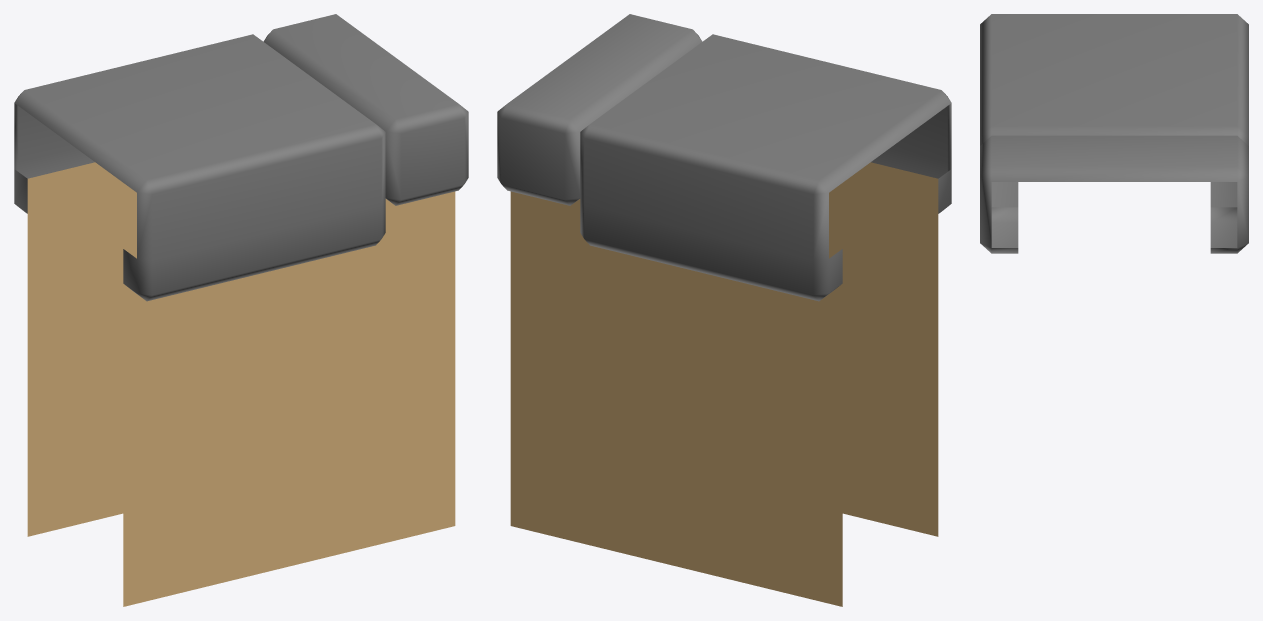
Rendered from SM_WallA_2x2_LOD0.fbx.
3 renders of one model, left to right at view 1: azimuth 30°, elevation 25°; view 2: azimuth 150°, elevation 25°; view 3: azimuth 270°, elevation 25°, orthographic.
Visible parts, largest first — view 1: SM_WallA_2x2_LOD0; view 2: SM_WallA_2x2_LOD0; view 3: SM_WallA_2x2_LOD0.
Boxes of the visible parts, <box> form: SM_WallA_2x2_LOD0: <box>14,14,468,606</box>; SM_WallA_2x2_LOD0: <box>497,14,951,606</box>; SM_WallA_2x2_LOD0: <box>980,14,1248,253</box>.
Size of the model in its own units: 2 by 2.5 by 1.4.
